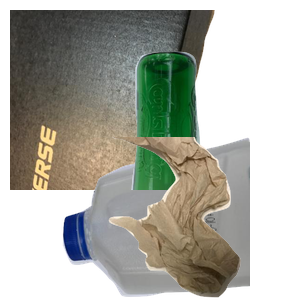cardboard: (10, 10, 217, 190)
glass: (129, 49, 300, 229)
plastic: (60, 135, 300, 300)
trash: (103, 137, 300, 300)
